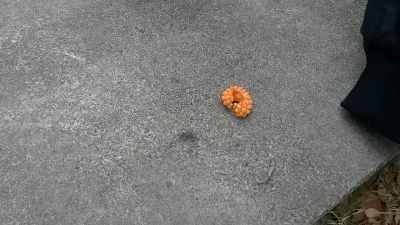eggs: (219, 85, 254, 119)
